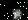person: (13, 10, 22, 20)
